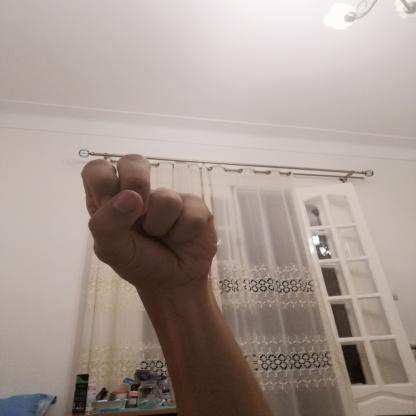QAAF: (66, 146, 235, 302)
